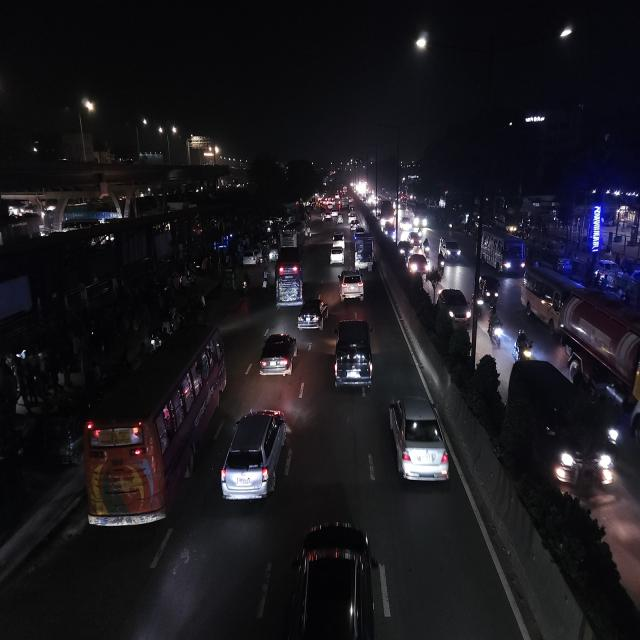bus: (75, 327, 223, 543), (522, 258, 584, 339), (272, 251, 316, 310), (476, 224, 524, 276), (279, 218, 309, 255)
car: (501, 359, 616, 526), (290, 518, 380, 640), (218, 403, 290, 513), (384, 392, 456, 498), (328, 314, 376, 396), (255, 332, 300, 388), (435, 281, 471, 331), (296, 294, 326, 336), (436, 230, 466, 268), (339, 267, 364, 301), (240, 243, 262, 269), (407, 251, 427, 277), (328, 245, 347, 267), (332, 228, 346, 248), (398, 238, 413, 256), (409, 229, 423, 247)
cng: (478, 275, 501, 306), (266, 244, 279, 264)
motorcycle: (487, 303, 503, 351), (515, 328, 531, 362), (239, 274, 252, 296), (435, 251, 446, 276), (423, 236, 431, 257)
truck: (352, 229, 376, 274)
